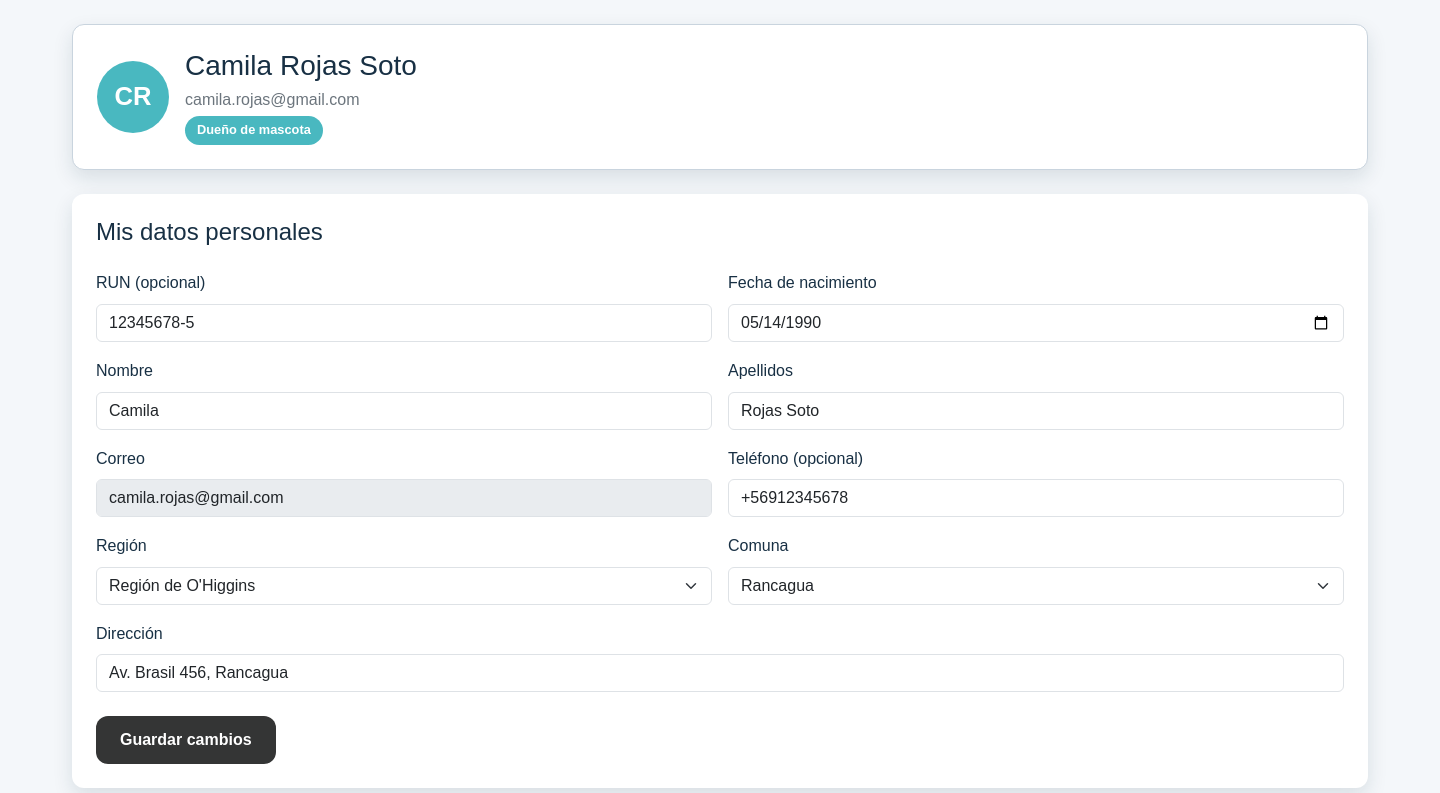
Test: MiPerfil › muestra el motivo si ms-auth rechaza los datos y no confirma el guardado
Step 1. Click the button "Guardar cambios" → click(186, 740), box x1=96 y1=716 x2=276 y2=764
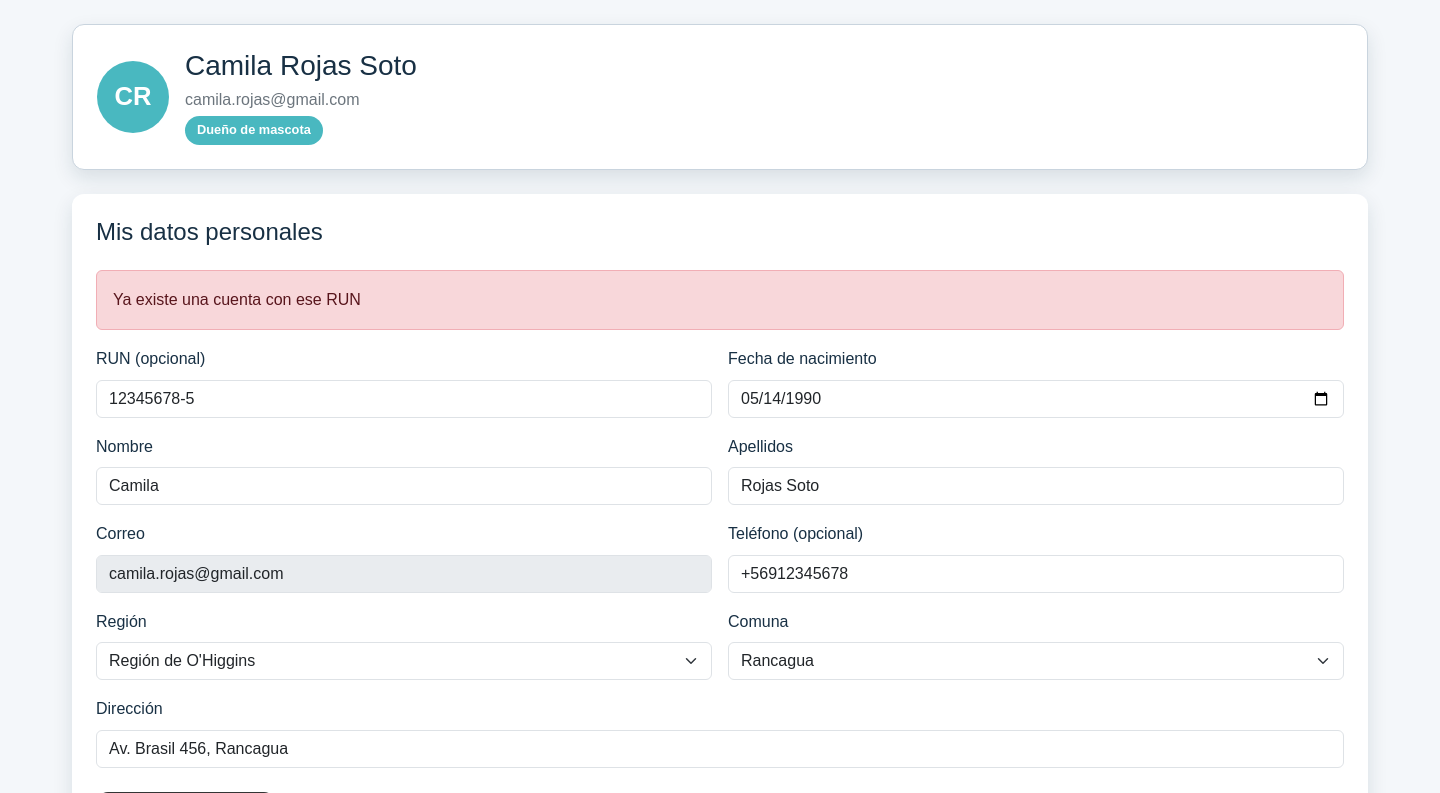
Expected: the text "Ya existe una cuenta con ese RUN" is shown, x1=96 y1=270 x2=1344 y2=330
